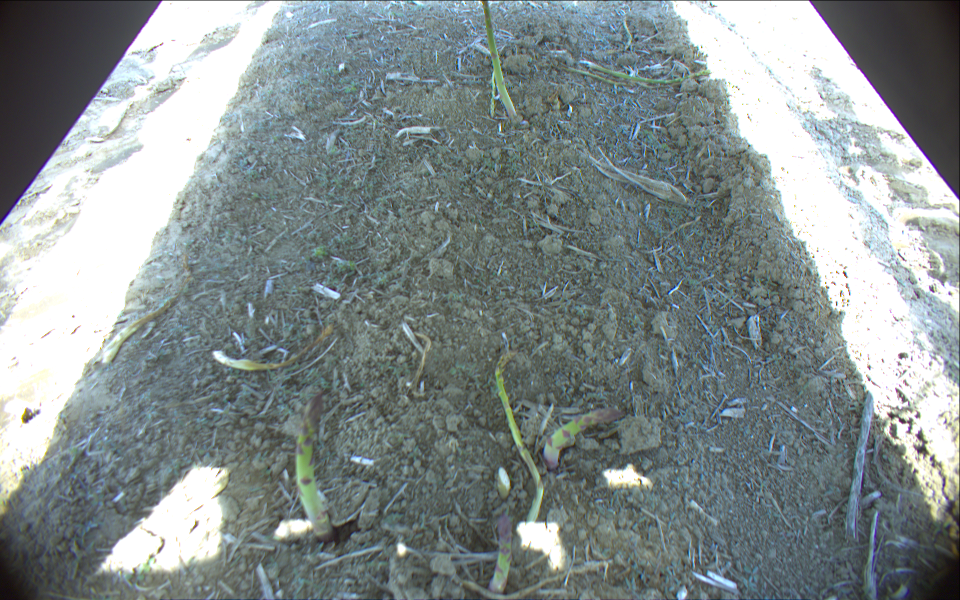aspa: (102, 259, 196, 366), (494, 350, 545, 528), (210, 325, 336, 379), (294, 395, 333, 545), (540, 408, 626, 471), (481, 1, 518, 119), (584, 58, 722, 85), (552, 68, 646, 88), (492, 515, 512, 595), (619, 15, 634, 52), (488, 69, 496, 119)
